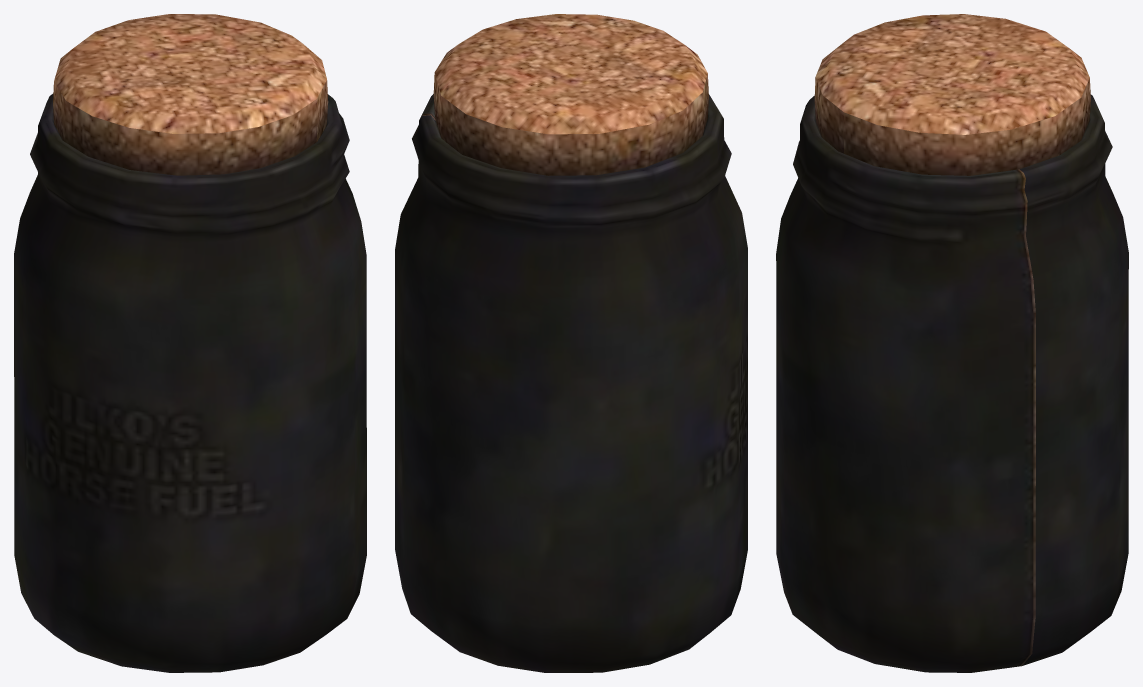
Rendered from fuel.lowgrade.worldmodel.glb.
3 views of the same model, side by side, from view 1: azimuth 30°, elevation 25°; view 2: azimuth 150°, elevation 25°; view 3: azimuth 270°, elevation 25° (orthographic).
Visible parts, largest first — view 1: jar_LOD0; view 2: jar_LOD0; view 3: jar_LOD0.
Part boxes in pixels (box(x1,y1,x2,y2)): jar_LOD0: box(14, 14, 366, 672); jar_LOD0: box(395, 14, 747, 672); jar_LOD0: box(776, 14, 1128, 672).
Bounding box in the file's own units: 0.2073 × 0.359 × 0.2089.
Materials: 1 (1 with a texture image).
